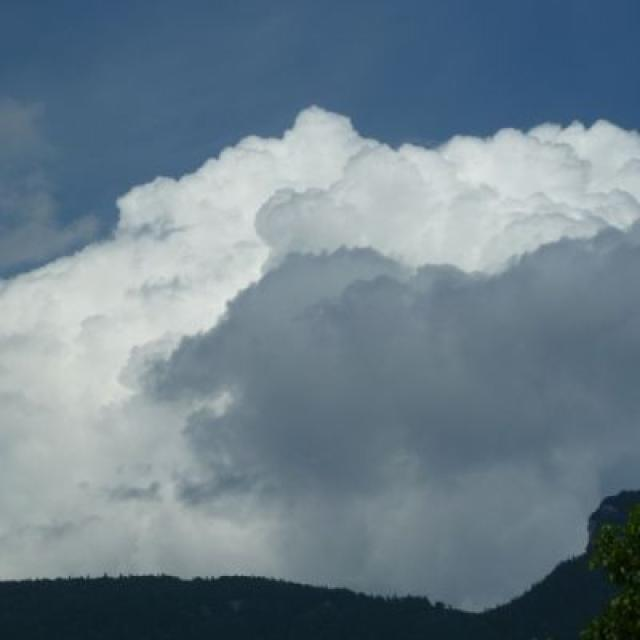Cu: (1, 63, 640, 462)
